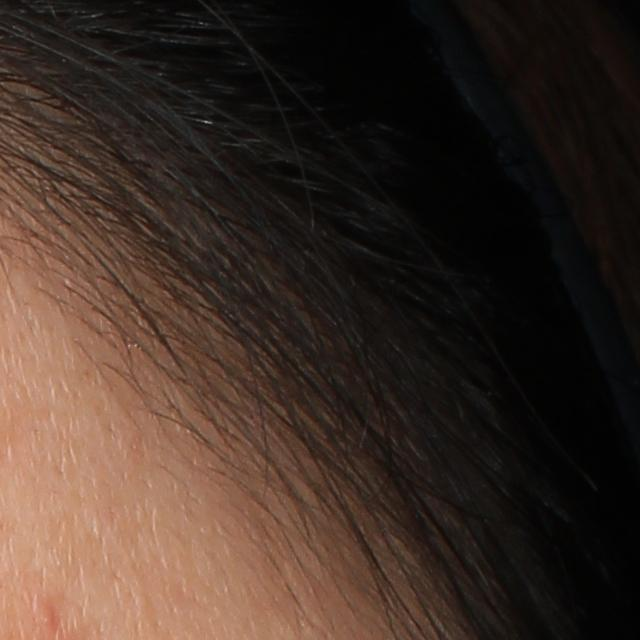papule: (30, 596, 62, 633)
